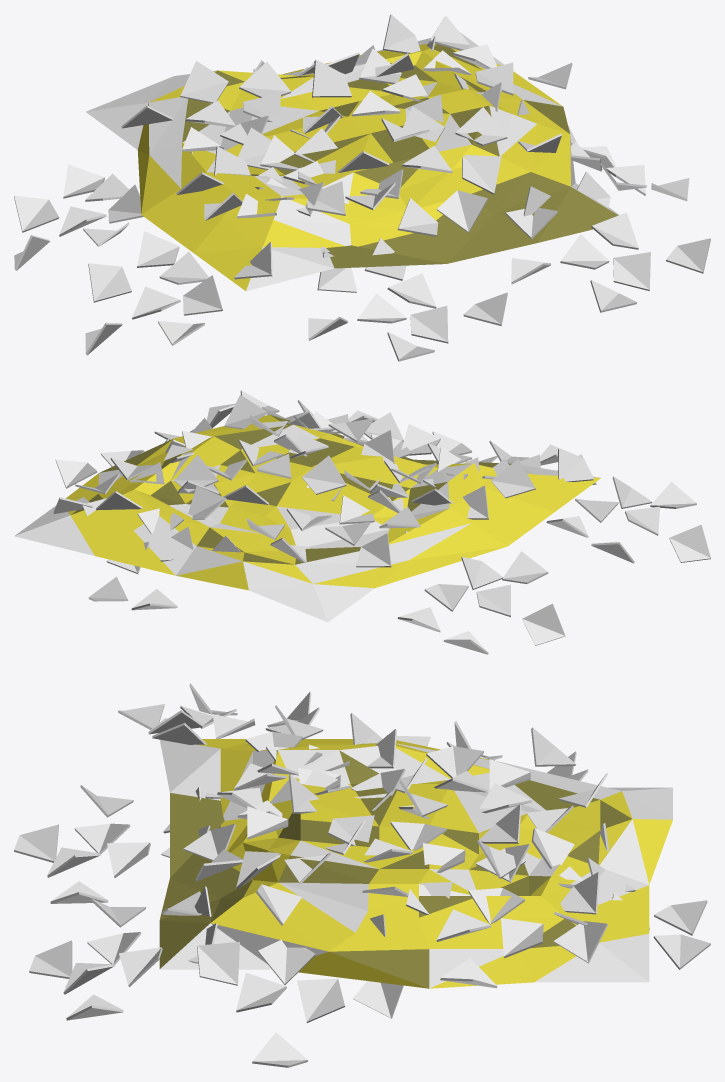
File: LeavesCombined.fbx
3 renders of one model, top to bottom at view 1: azimuth 30°, elevation 25°; view 2: azimuth 150°, elevation 25°; view 3: azimuth 270°, elevation 25°, orthographic. The views are drawn at different scales.
Parts seen in each view (by area): view 1: Cube; view 2: Cube; view 3: Cube.
Boxes of the visible parts, x1,y1,x2,y2 form: Cube: (14,14,710,361); Cube: (14,390,710,654); Cube: (14,683,710,1067).
Bounding box in the file's own units: 820 × 147 × 699.
